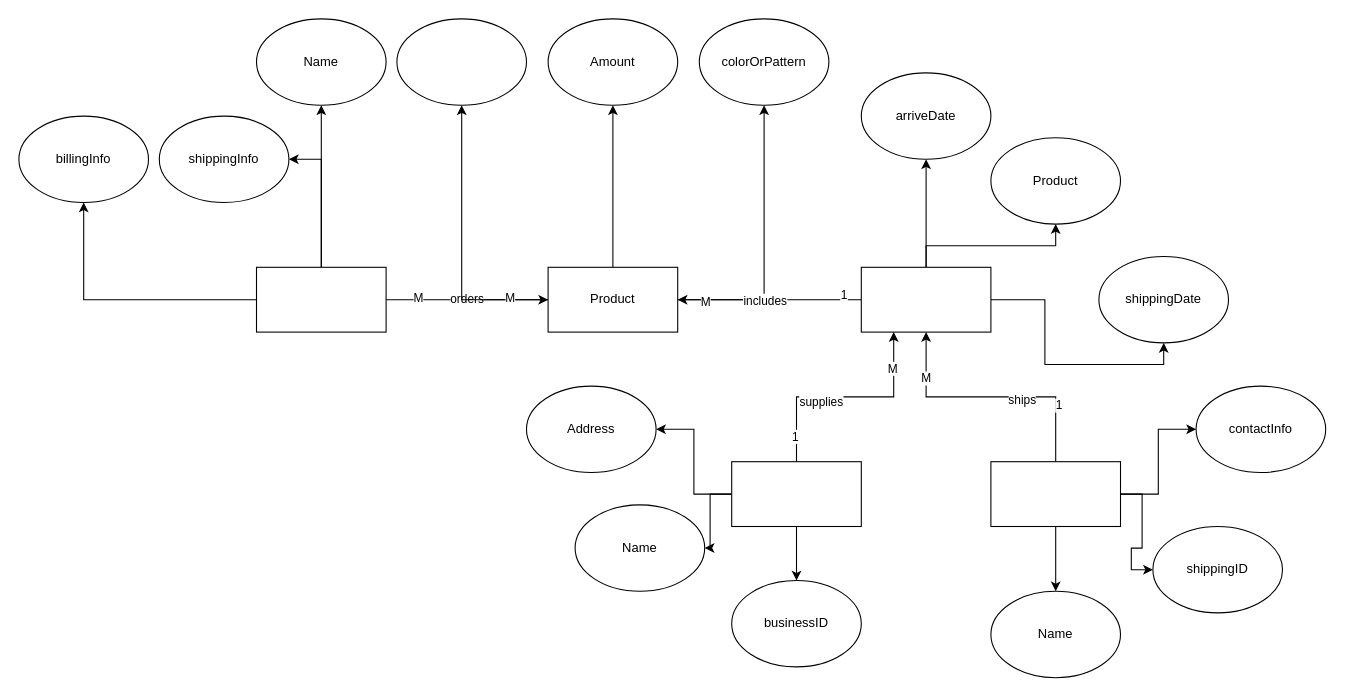
The diagram is 1345 pixels wide and 697 high, and some of its shapes have lost their labels. The centre of each missing label's shape, as x and y in pixels:
"Customer" goes at pixel 320 299.
"Order" goes at pixel 925 299.
"Shipper" goes at pixel 1055 493.
"Size" goes at pixel 461 61.
"Supplier" goes at pixel 796 493.
